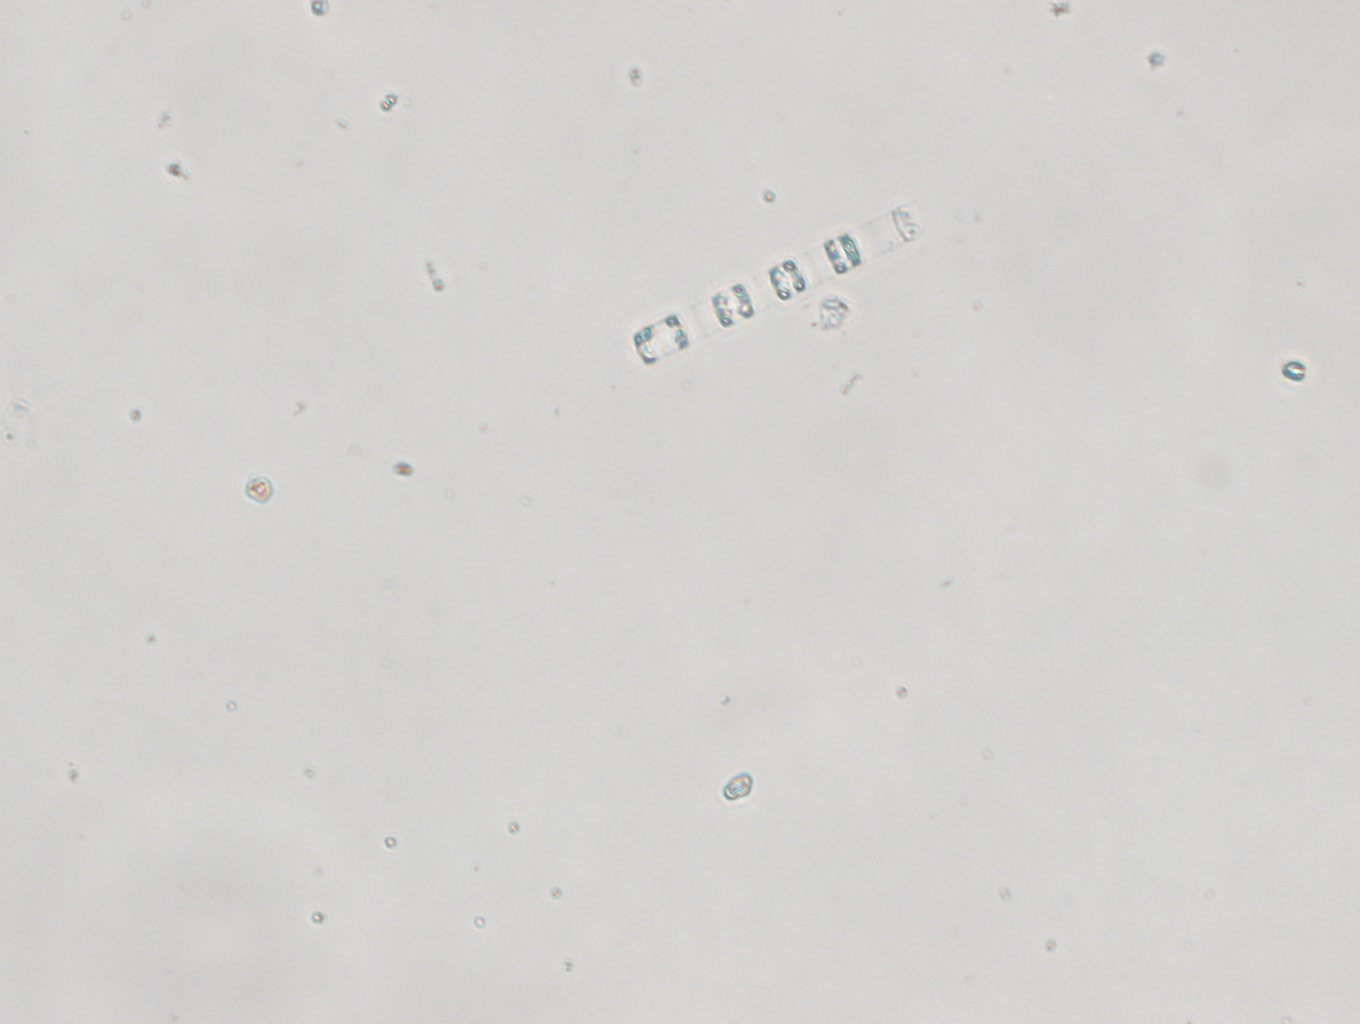skeletonema: (629, 198, 924, 368)
